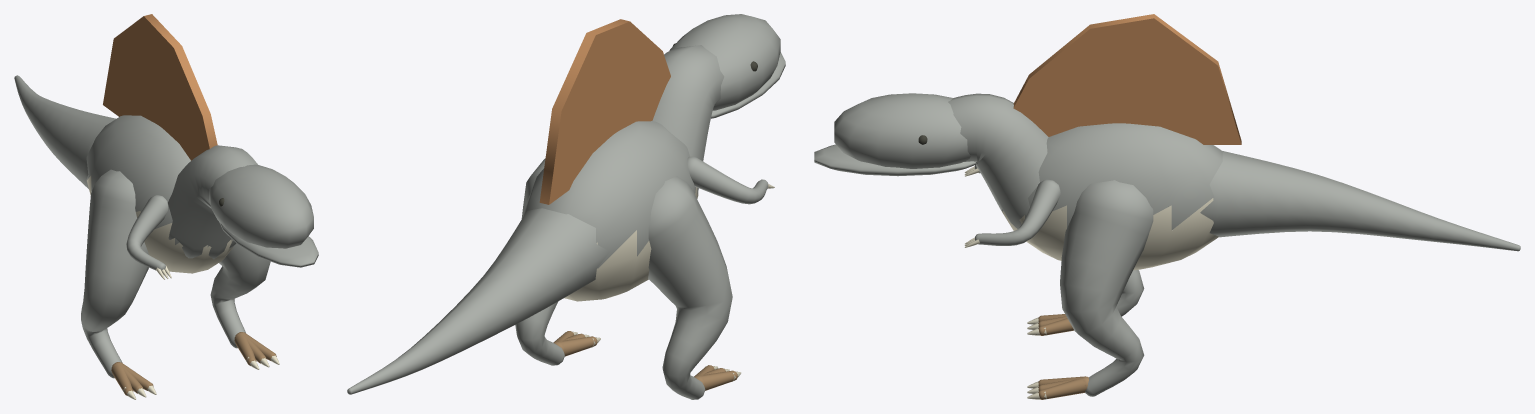
File: spinosaurus.glb
3 views of the same model, side by side, from view 1: azimuth 30°, elevation 25°; view 2: azimuth 150°, elevation 25°; view 3: azimuth 270°, elevation 25° (orthographic). The views are drawn at different scales.
Visible parts, largest first — view 1: spinosaurus; view 2: spinosaurus; view 3: spinosaurus.
Part boxes in pixels (x1,y1,x2,y2): spinosaurus: (14,14,318,399); spinosaurus: (347,14,785,399); spinosaurus: (814,14,1520,399).
Bounding box in the file's own units: 4.37 × 7.6 × 14.
